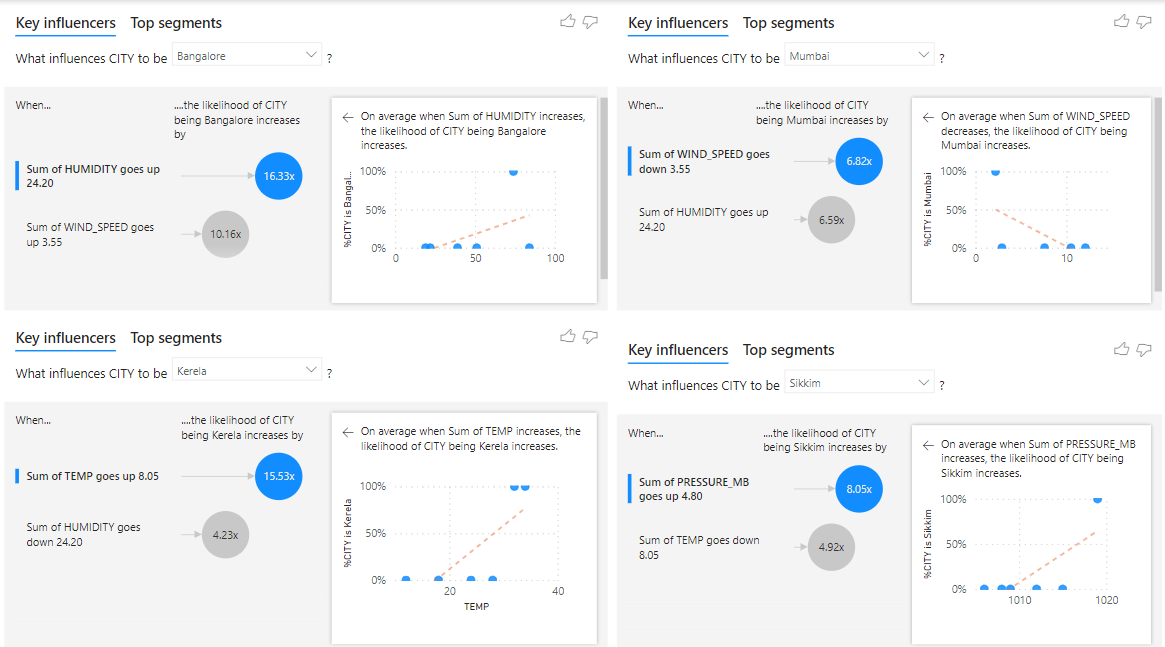

The dashboard page shown, as its layout file describes it:
{"tool":"powerbi","page":{"name":"Key Influencers","canvas":[1280,720],"ordinal":1},"visuals":[{"type":"keyDriversVisual","fields":{"Target":["2024-04-10 4_36pm (1).CITY"],"ExplainBy":["Sum(2024-04-10 4_36pm (1).HUMIDITY)","Sum(2024-04-10 4_36pm (1).PRESSURE_MB)","Sum(2024-04-10 4_36pm (1).TEMP)","Sum(2024-04-10 4_36pm (1).WIND_SPEED)","2024-04-10 4_36pm (1).TIME.Variation.Date Hierarchy.Year","2024-04-10 4_36pm (1).TIME.Variation.Date Hierarchy.Quarter","2024-04-10 4_36pm (1).TIME.Variation.Date Hierarchy.Month","2024-04-10 4_36pm (1).TIME.Variation.Date Hierarchy.Day"]},"box":[0,0,672.4,345.8],"z":0},{"type":"keyDriversVisual","fields":{"Target":["2024-04-10 4_36pm (1).CITY"],"ExplainBy":["Sum(2024-04-10 4_36pm (1).HUMIDITY)","Sum(2024-04-10 4_36pm (1).PRESSURE_MB)","Sum(2024-04-10 4_36pm (1).TEMP)","Sum(2024-04-10 4_36pm (1).WIND_SPEED)","2024-04-10 4_36pm (1).TIME.Variation.Date Hierarchy.Year","2024-04-10 4_36pm (1).TIME.Variation.Date Hierarchy.Quarter","2024-04-10 4_36pm (1).TIME.Variation.Date Hierarchy.Month","2024-04-10 4_36pm (1).TIME.Variation.Date Hierarchy.Day"]},"box":[672.4,0,607.9,345.8],"z":1000},{"type":"keyDriversVisual","fields":{"Target":["2024-04-10 4_36pm (1).CITY"],"ExplainBy":["Sum(2024-04-10 4_36pm (1).HUMIDITY)","Sum(2024-04-10 4_36pm (1).PRESSURE_MB)","Sum(2024-04-10 4_36pm (1).TEMP)","Sum(2024-04-10 4_36pm (1).WIND_SPEED)","2024-04-10 4_36pm (1).TIME.Variation.Date Hierarchy.Year","2024-04-10 4_36pm (1).TIME.Variation.Date Hierarchy.Quarter","2024-04-10 4_36pm (1).TIME.Variation.Date Hierarchy.Month","2024-04-10 4_36pm (1).TIME.Variation.Date Hierarchy.Day"]},"box":[0,345.8,672.4,374.6],"z":2000},{"type":"keyDriversVisual","fields":{"Target":["2024-04-10 4_36pm (1).CITY"],"ExplainBy":["Sum(2024-04-10 4_36pm (1).HUMIDITY)","Sum(2024-04-10 4_36pm (1).PRESSURE_MB)","Sum(2024-04-10 4_36pm (1).TEMP)","Sum(2024-04-10 4_36pm (1).WIND_SPEED)","2024-04-10 4_36pm (1).TIME.Variation.Date Hierarchy.Year","2024-04-10 4_36pm (1).TIME.Variation.Date Hierarchy.Quarter","2024-04-10 4_36pm (1).TIME.Variation.Date Hierarchy.Month","2024-04-10 4_36pm (1).TIME.Variation.Date Hierarchy.Day"]},"box":[672.4,359.5,607.9,360.9],"z":3000}]}

Visuals, with their boxes in screenshot pixels (x1, y1, x2, y2), scaled from the page's 1280x720 canvas onto the 1165x647 screenshot:
keyDriversVisual - 2024-04-10 4_36pm (1).CITY x Sum(2024-04-10 4_36pm (1).HUMIDITY): box(0, 0, 612, 311)
keyDriversVisual - 2024-04-10 4_36pm (1).CITY x Sum(2024-04-10 4_36pm (1).HUMIDITY): box(612, 0, 1164, 311)
keyDriversVisual - 2024-04-10 4_36pm (1).CITY x Sum(2024-04-10 4_36pm (1).HUMIDITY): box(0, 311, 612, 646)
keyDriversVisual - 2024-04-10 4_36pm (1).CITY x Sum(2024-04-10 4_36pm (1).HUMIDITY): box(612, 323, 1164, 646)
